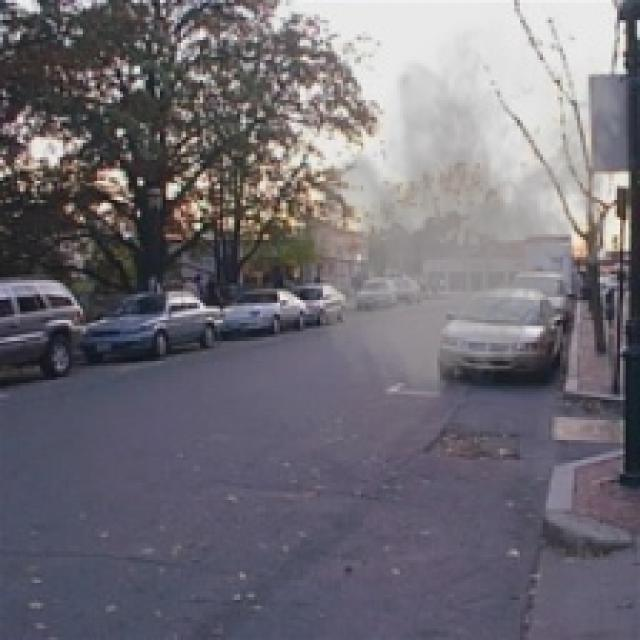smoke: (288, 3, 632, 414)
